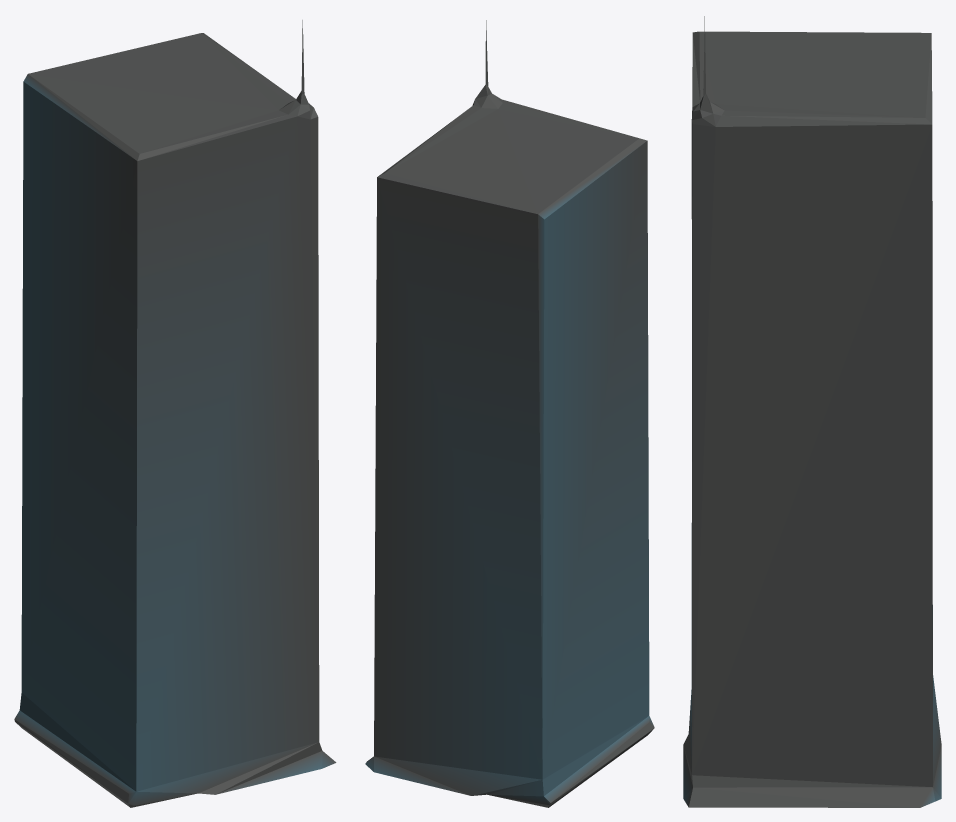
The model's file is Skyscrapers(1).glb.
The picture shows the model from 3 angles, left to right: view 1: azimuth 30°, elevation 25°; view 2: azimuth 150°, elevation 25°; view 3: azimuth 270°, elevation 25°; orthographic projection. The views are drawn at different scales.
Parts seen in each view (by area): view 1: Root; view 2: Root; view 3: Root.
Boxes of the visible parts, box(x1,y1,x2,y2) form: Root: box(14, 20, 336, 807); Root: box(365, 20, 654, 807); Root: box(683, 16, 941, 807).
Bounding box in the file's own units: 6.98 × 24.21 × 7.26.
